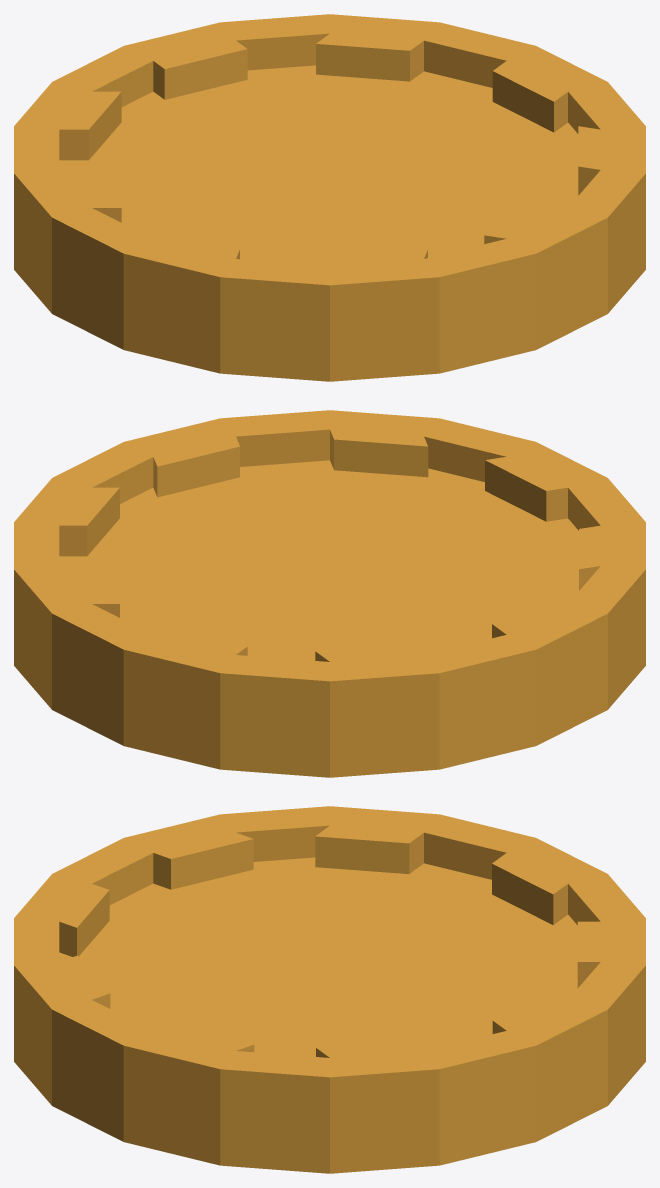
Rendered from Coin.fbx.
The picture shows the model from 3 angles, top to bottom: view 1: azimuth 30°, elevation 25°; view 2: azimuth 150°, elevation 25°; view 3: azimuth 270°, elevation 25°; orthographic projection.
Parts seen in each view (by area): view 1: Coin; view 2: Coin; view 3: Coin.
Boxes of the visible parts, box(x1,y1,x2,y2) form: Coin: box(14, 14, 645, 381); Coin: box(14, 410, 645, 777); Coin: box(14, 806, 645, 1173).
Size of the model in its own units: 2 by 0.3315 by 1.97.
